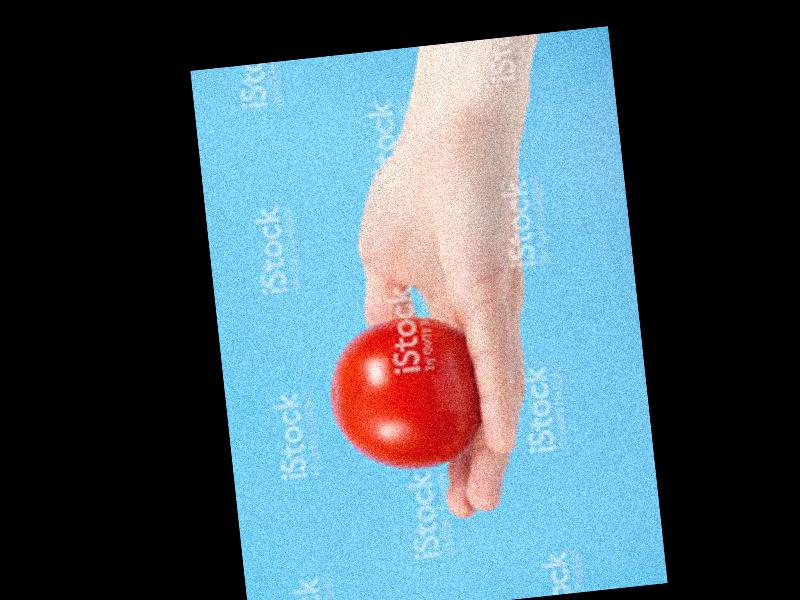Tomato: (326, 313, 484, 476)
